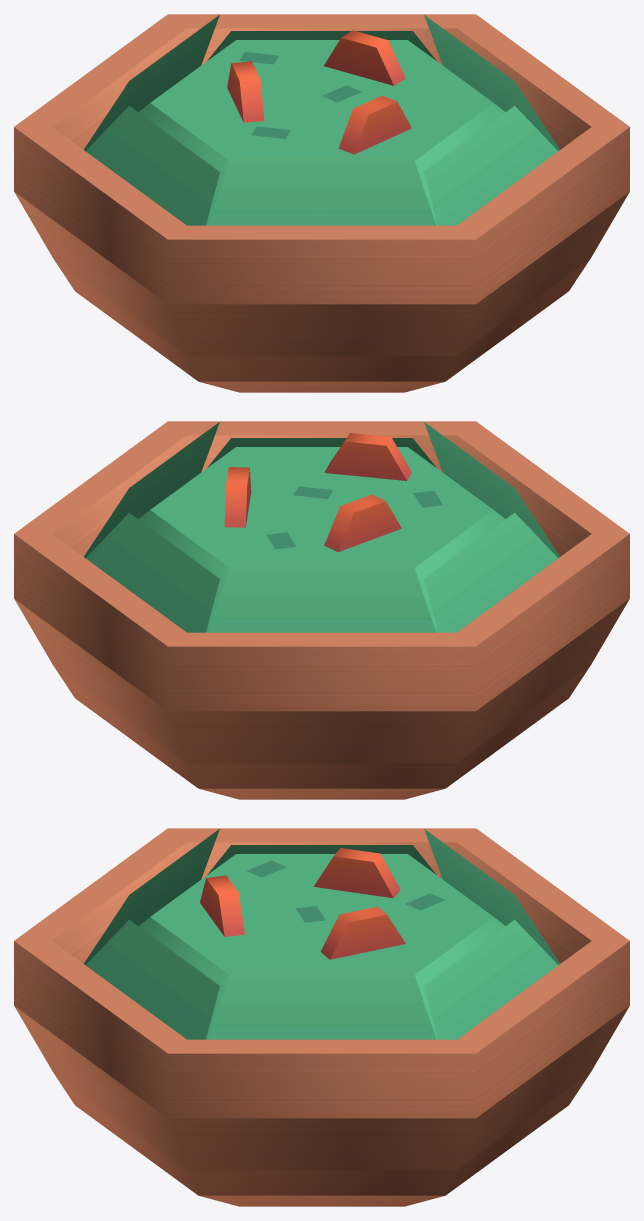
Rendered from salad.glb.
3 renders of one model, top to bottom at view 1: azimuth 30°, elevation 25°; view 2: azimuth 150°, elevation 25°; view 3: azimuth 270°, elevation 25°, orthographic.
Parts seen in each view (by area): view 1: salad; view 2: salad; view 3: salad.
Part boxes in pixels (bbox=[...]): salad: bbox=[14, 14, 629, 392]; salad: bbox=[14, 421, 629, 799]; salad: bbox=[14, 828, 629, 1206].
Bounding box in the file's own units: 0.5022 × 0.2734 × 0.5798.
1 material, 1 textured.
